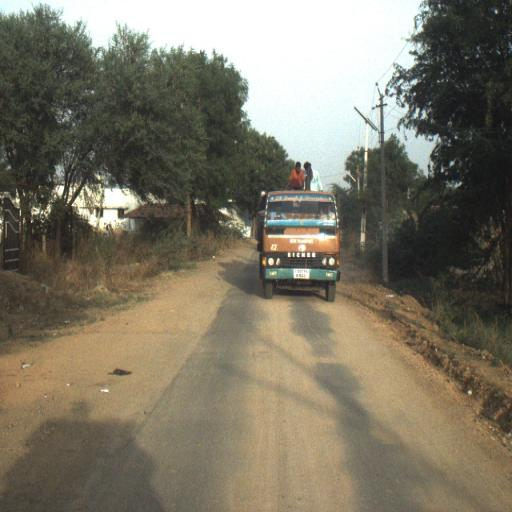street_light_0: (354, 106, 385, 146), (345, 170, 359, 188)
